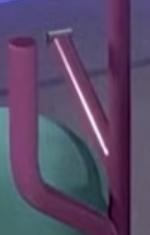algae: (0, 108, 105, 234)
